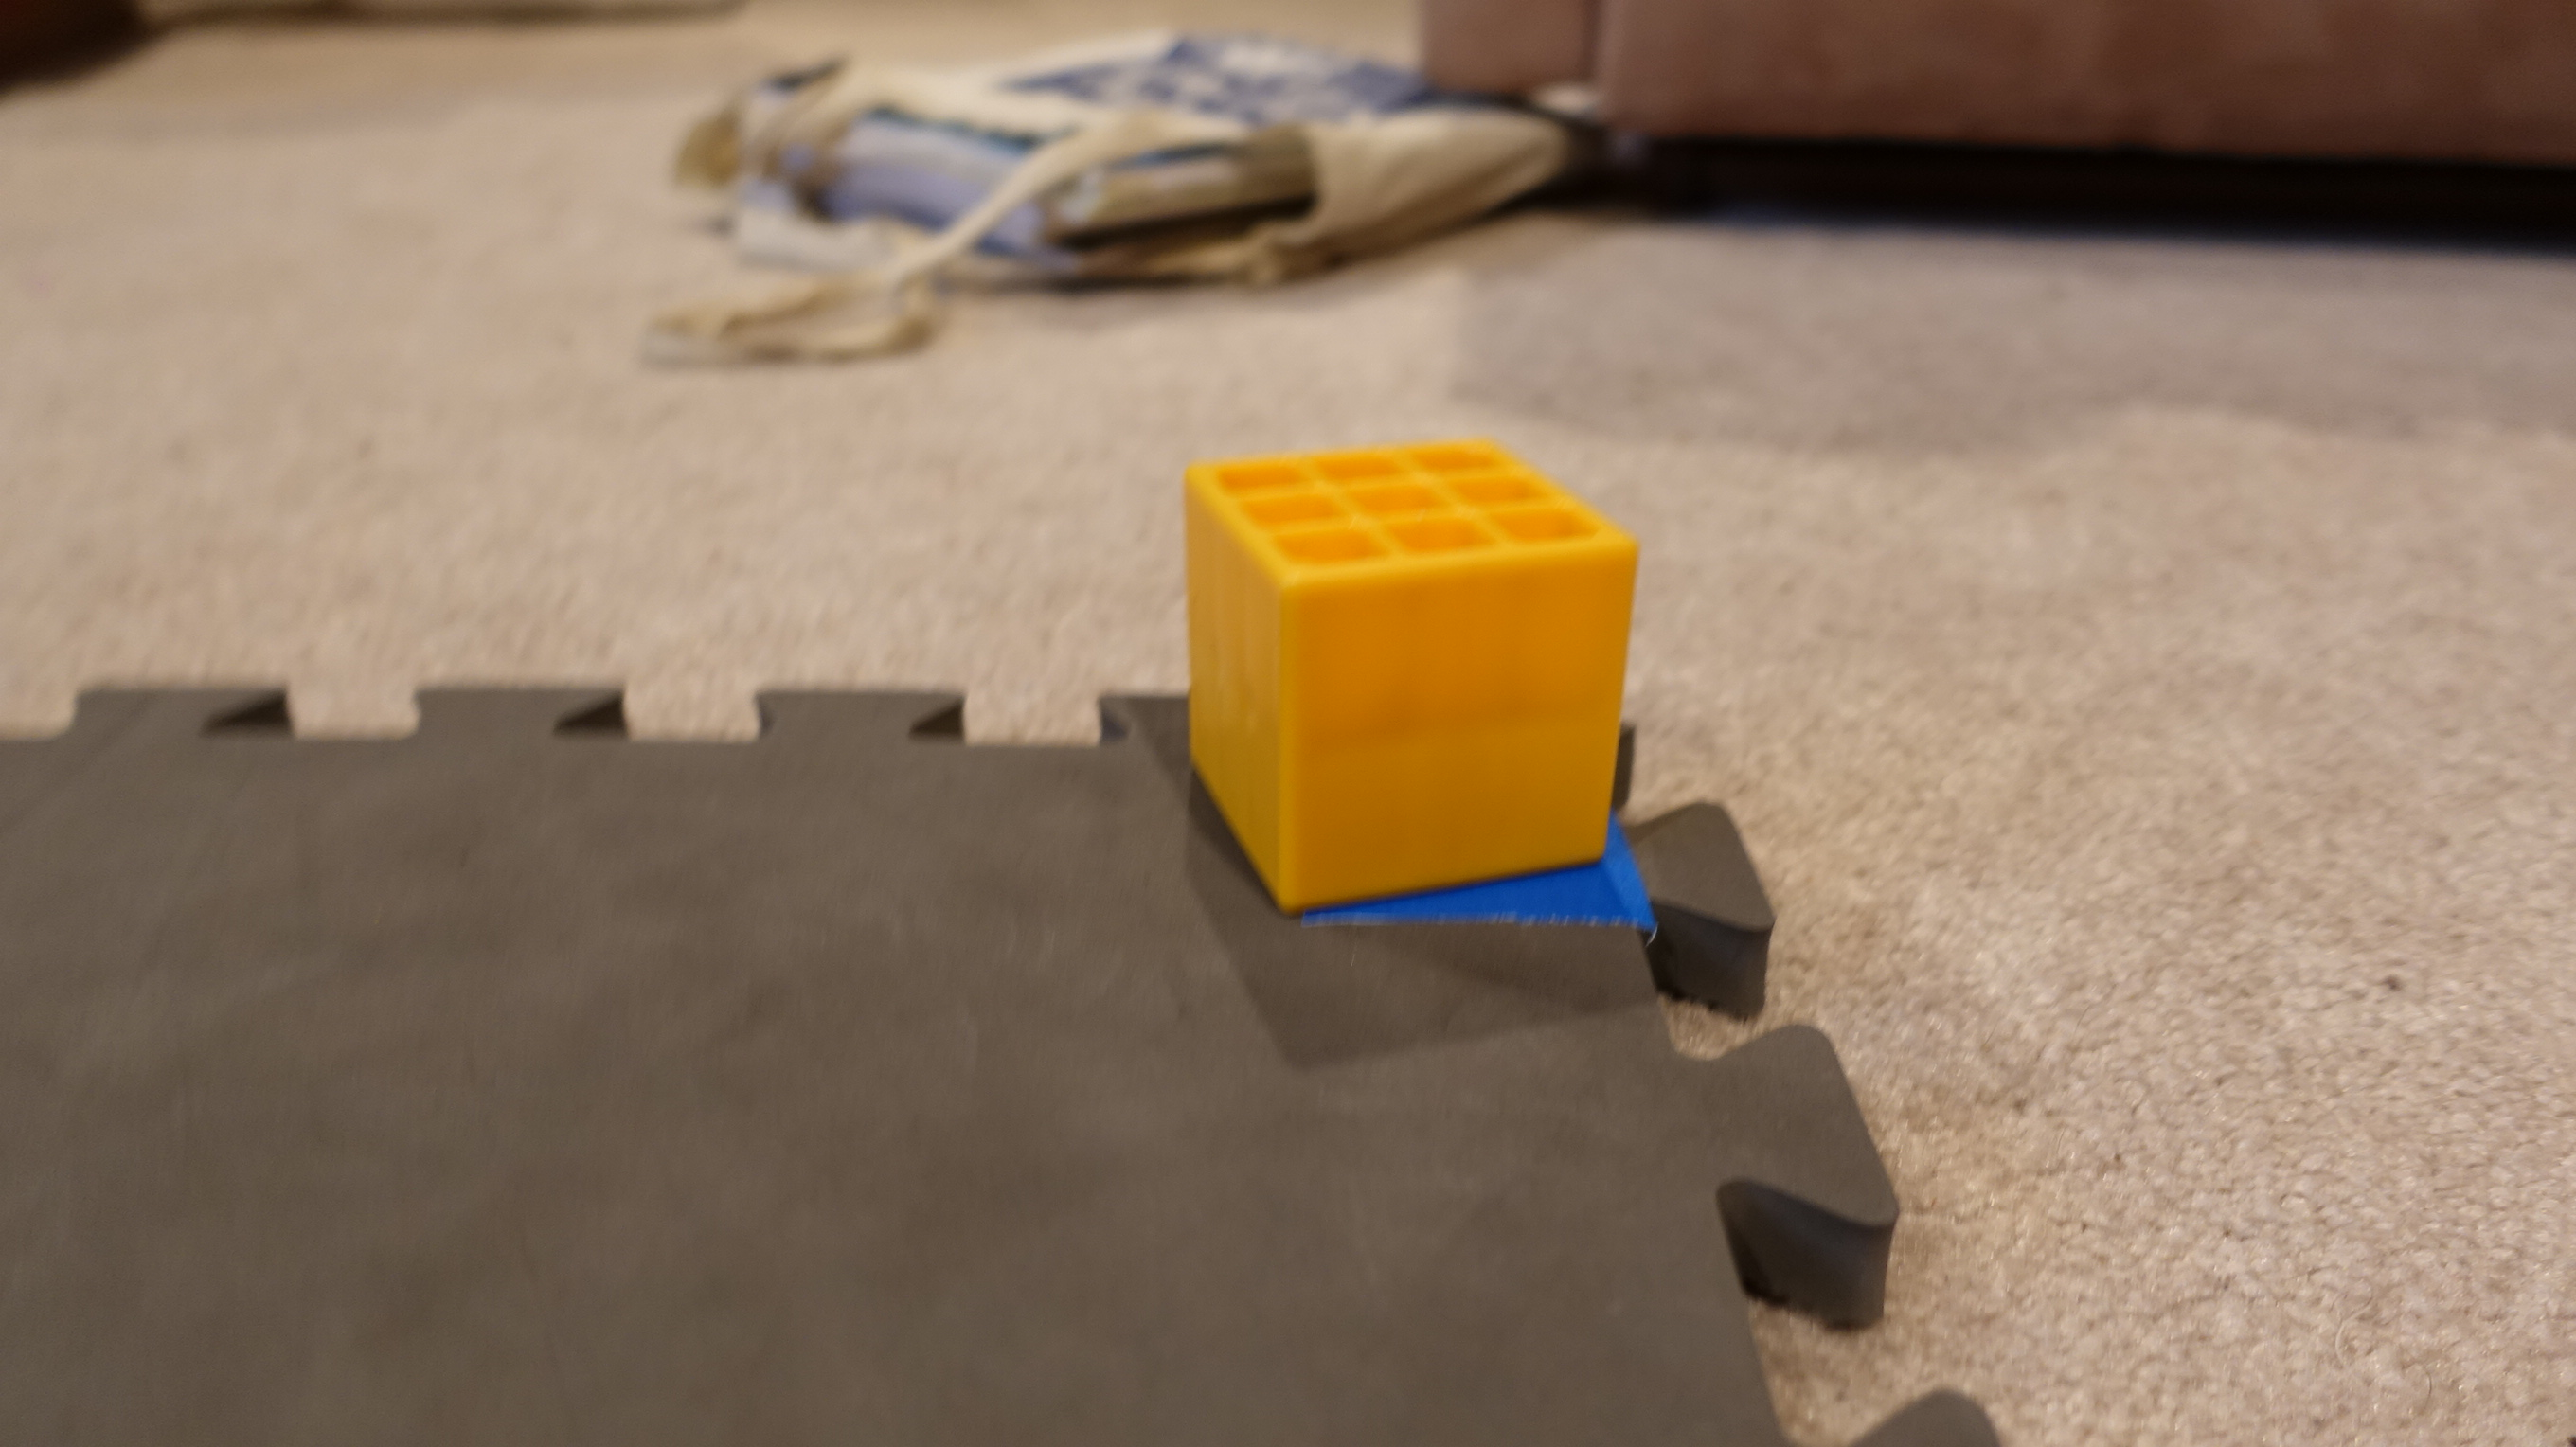gold: (1175, 433, 1647, 916)
